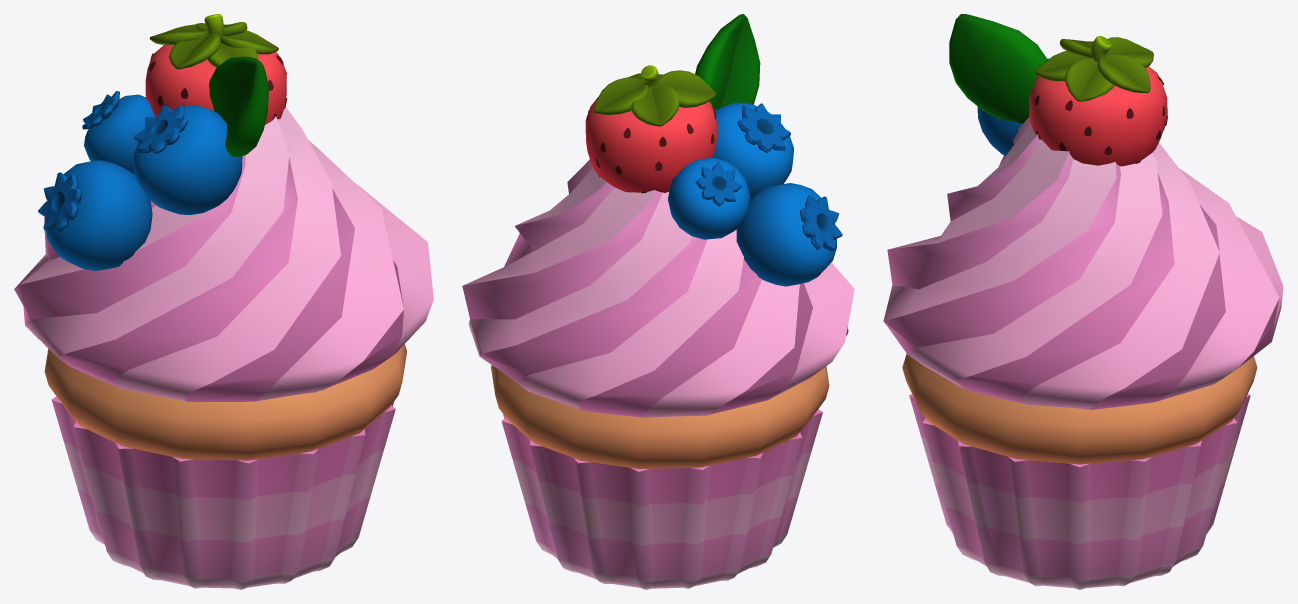
The model's file is Cupcake_Strawberry_V2_00.fbx.
The picture shows the model from 3 angles, left to right: view 1: azimuth 30°, elevation 25°; view 2: azimuth 150°, elevation 25°; view 3: azimuth 270°, elevation 25°; orthographic projection. The views are drawn at different scales.
Visible parts, largest first — view 1: Cupcake_Strawberry_V2_00; view 2: Cupcake_Strawberry_V2_00; view 3: Cupcake_Strawberry_V2_00.
Boxes of the visible parts, x1,y1,x2,y2 form: Cupcake_Strawberry_V2_00: [14, 14, 433, 589]; Cupcake_Strawberry_V2_00: [462, 14, 854, 589]; Cupcake_Strawberry_V2_00: [883, 14, 1283, 589].
Bounding box in the file's own units: 37.27 × 52.13 × 36.6.
